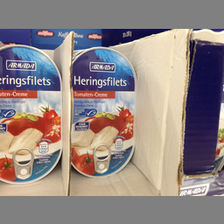fish: (1, 45, 64, 183), (72, 47, 137, 179)
